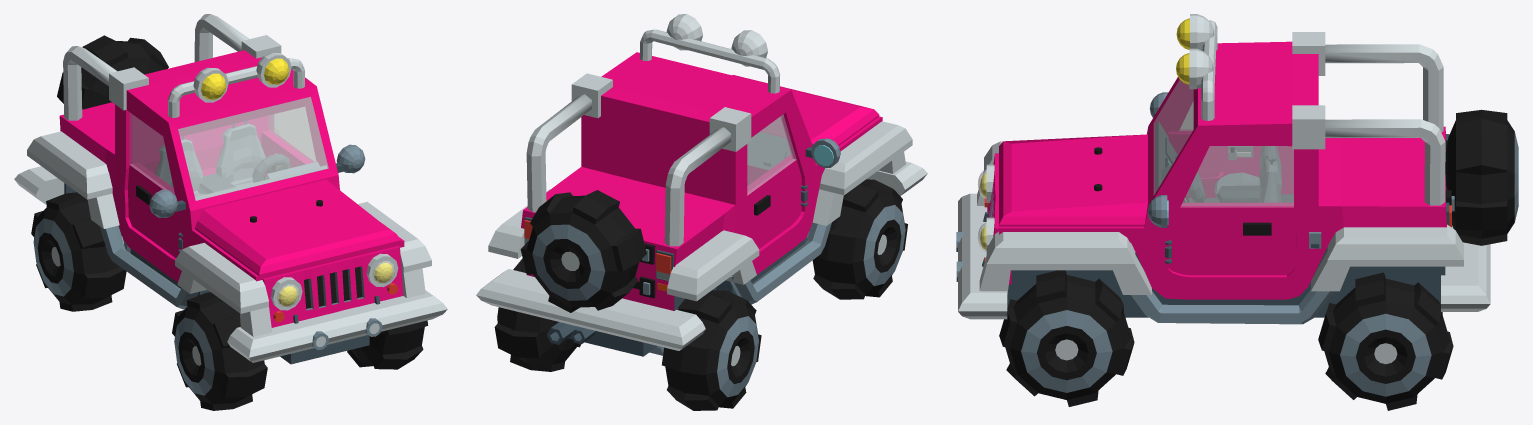
Rendered from jeep.glb.
3 views of the same model, side by side, from view 1: azimuth 30°, elevation 25°; view 2: azimuth 150°, elevation 25°; view 3: azimuth 270°, elevation 25° (orthographic). The views are drawn at different scales.
Visible parts, largest first — view 1: Body, Wheel_BP, Wheel_FP, Wheel_FD; view 2: Body, Wheel_BP, Wheel_FP, Wheel_BD; view 3: Body, Wheel_BD, Wheel_FD.
Boxes of the visible parts, x1=… form: Body: x1=14, y1=14, x2=447, y2=364; Wheel_BP: x1=31, y1=192, x2=126, y2=311; Wheel_FP: x1=172, y1=292, x2=267, y2=410; Wheel_FD: x1=347, y1=320, x2=428, y2=369; Body: x1=476, y1=14, x2=927, y2=356; Wheel_BP: x1=662, y1=290, x2=761, y2=410; Wheel_FP: x1=812, y1=179, x2=907, y2=299; Wheel_BD: x1=494, y1=258, x2=580, y2=371; Body: x1=956, y1=14, x2=1518, y2=324; Wheel_BD: x1=1318, y1=272, x2=1453, y2=410; Wheel_FD: x1=999, y1=270, x2=1134, y2=406.
Size of the model in its own units: 0.6868 by 0.8703 by 1.36.
